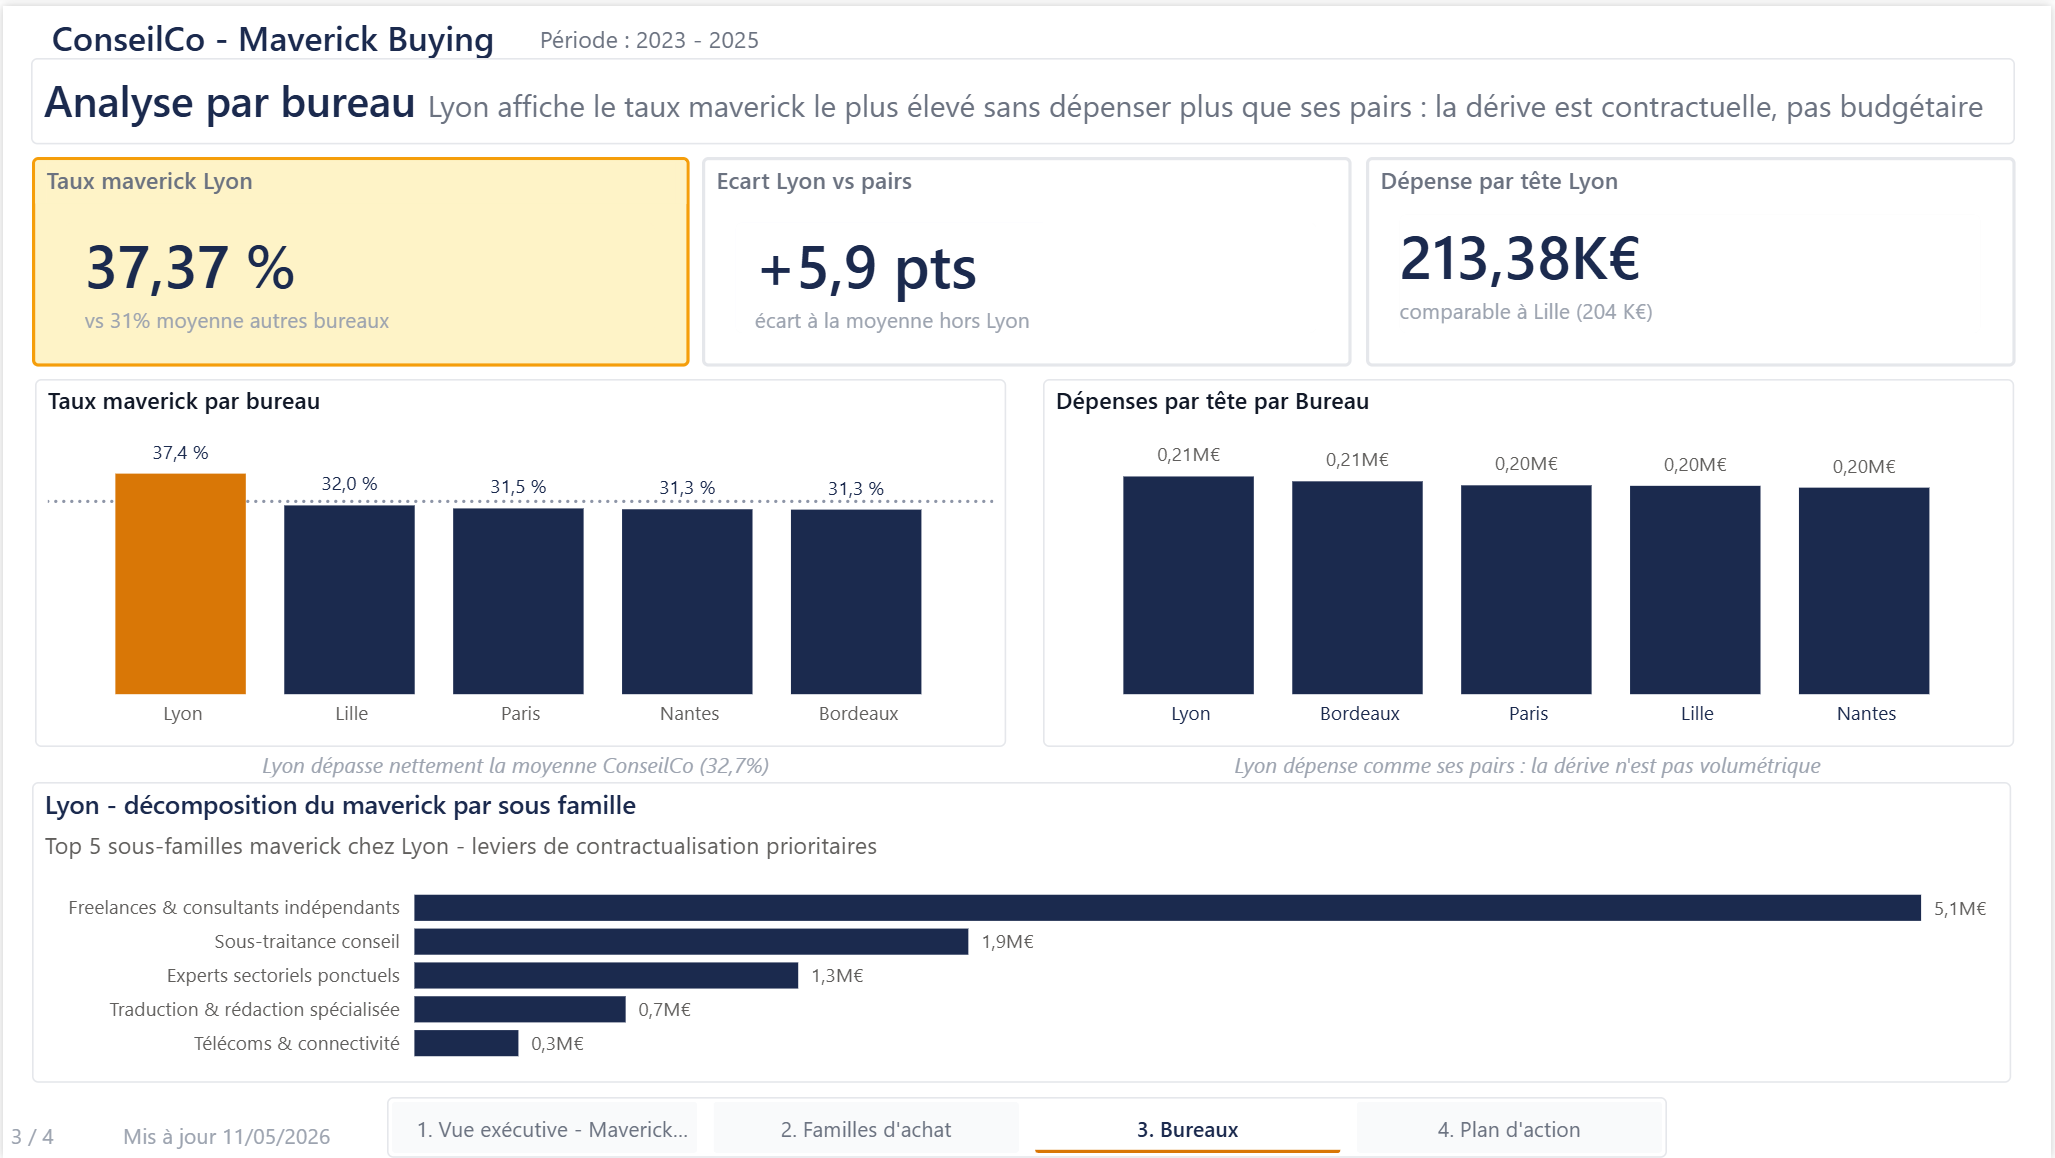

The page's visual inventory and layout, read from the dashboard file:
{"tool":"powerbi","page":{"name":"3. Bureaux","canvas":[1280,720],"ordinal":2},"visuals":[{"type":"textbox","box":[651,458,607,38],"z":0},{"type":"textbox","box":[20,0,303.5,42.9],"z":1000},{"type":"textbox","box":[323.5,0,160.7,42.9],"z":2000},{"type":"textbox","box":[0,690,69.2,30],"z":3000},{"type":"pageNavigator","box":[240,682,800,38],"z":4000},{"type":"textbox","box":[17.5,32.5,1240,53.8],"z":5000},{"type":"cardVisual","title":"Dépense par tête Lyon","fields":{"Data":["Mesures.Dépenses par tête"]},"box":[852,94.5,405.7,131.3],"z":6000},{"type":"cardVisual","title":"Ecart Lyon vs pairs","fields":{"Data":["Mesures.Surperformance Lyon pts lib"]},"box":[437.2,94.5,405.7,131.3],"z":7000},{"type":"cardVisual","title":"Taux maverick Lyon ","fields":{"Data":["Mesures.Taux maverick métier"]},"box":[18.4,94.5,410.9,131.3],"z":8000},{"type":"columnChart","title":"Taux maverick par bureau","fields":{"Category":["Entités.Bureau"],"Y":["Mesures.Taux maverick métier"]},"box":[20,232.9,607.1,230],"z":9000},{"type":"columnChart","fields":{"Category":["Entités.Bureau"],"Y":["Mesures.Dépenses par tête"]},"box":[650,232.9,607.1,230],"z":10000},{"type":"cardVisual","fields":{"Data":["Mesures.Annotation Lyon lib"]},"box":[150,448,345,48],"z":11000},{"type":"barChart","fields":{"Category":["Catégories.Sous-famille"],"Y":["Mesures.Montant maverick contextuel"]},"box":[18.4,484.9,1237.5,188.4],"z":12000},{"type":"textbox","box":[70,695.3,156.5,24.7],"z":14000}]}

Visuals, with their boxes on the page's 1280x720 design canvas (x1, y1, x2, y2). These are canvas units, not pixel positions in the 2055x1158 screenshot, which may show the page scaled, cropped or inside an application window:
textbox: (x1=651, y1=458, x2=1258, y2=496)
textbox: (x1=20, y1=0, x2=324, y2=43)
textbox: (x1=324, y1=0, x2=484, y2=43)
textbox: (x1=0, y1=690, x2=69, y2=720)
pageNavigator: (x1=240, y1=682, x2=1040, y2=720)
textbox: (x1=18, y1=32, x2=1258, y2=86)
"Dépense par tête Lyon" cardVisual: (x1=852, y1=94, x2=1258, y2=226)
"Ecart Lyon vs pairs" cardVisual: (x1=437, y1=94, x2=843, y2=226)
"Taux maverick Lyon " cardVisual: (x1=18, y1=94, x2=429, y2=226)
"Taux maverick par bureau" columnChart: (x1=20, y1=233, x2=627, y2=463)
columnChart - Entités.Bureau x Mesures.Dépenses par tête: (x1=650, y1=233, x2=1257, y2=463)
cardVisual - Mesures.Annotation Lyon lib: (x1=150, y1=448, x2=495, y2=496)
barChart - Catégories.Sous-famille x Mesures.Montant maverick contextuel: (x1=18, y1=485, x2=1256, y2=673)
textbox: (x1=70, y1=695, x2=226, y2=720)
